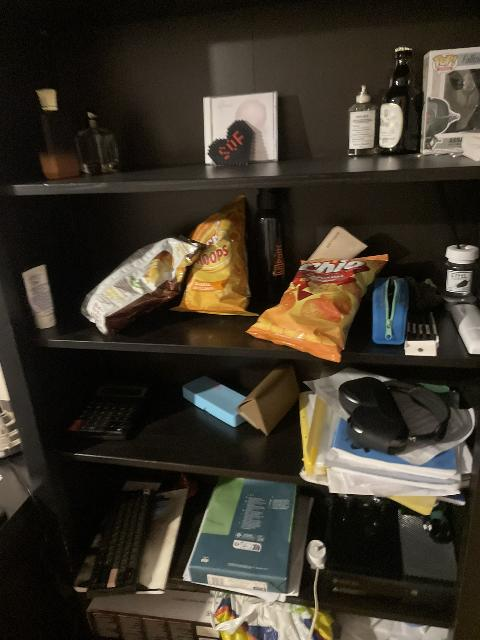Chio Cascaval 125g: (246, 252, 376, 361)
Chio Hula Hoops Cheese 70g: (170, 195, 256, 314)
Lays Beef Grilled Ribs 125g: (80, 235, 208, 335)
